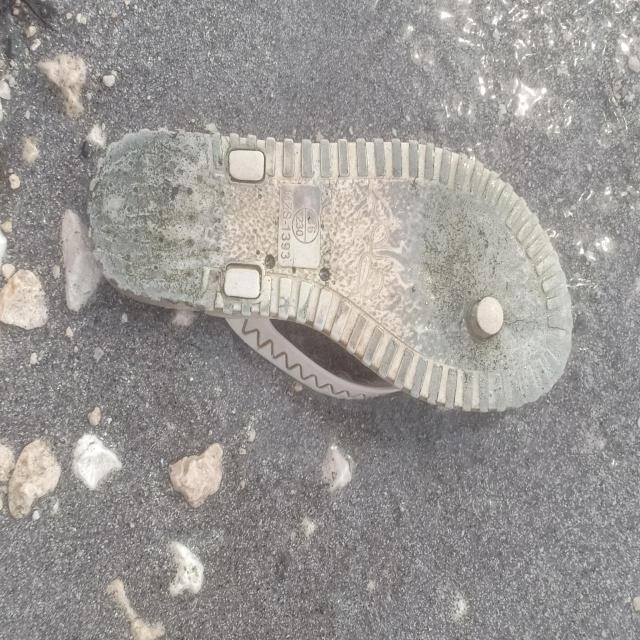litter: (90, 126, 574, 414)
